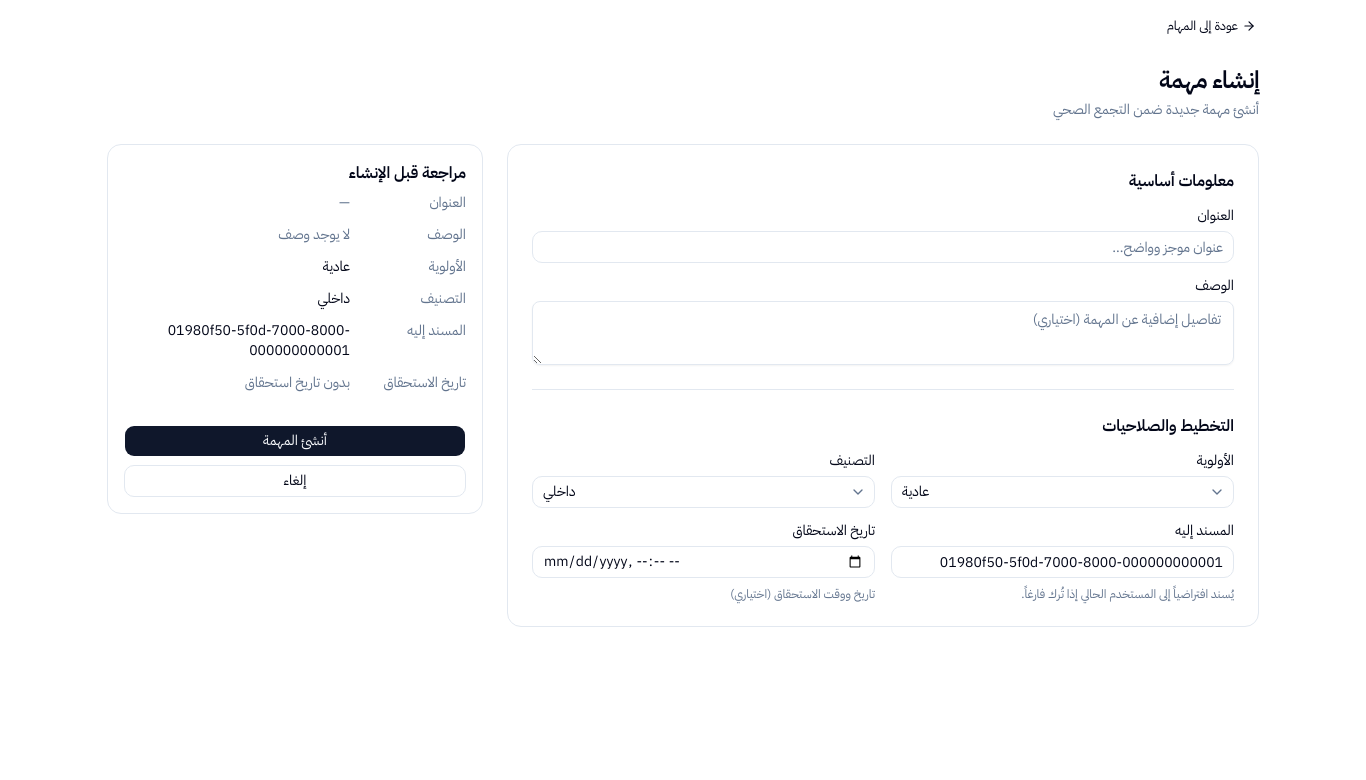
TaskCreateScreen — submit, validation, and navigation › maps a generic server error to the generic submit error
Step 1. Type "مهمة فشلت" into the field labelled "العنوان" → (883, 247), box 532,231 -> 1234,263
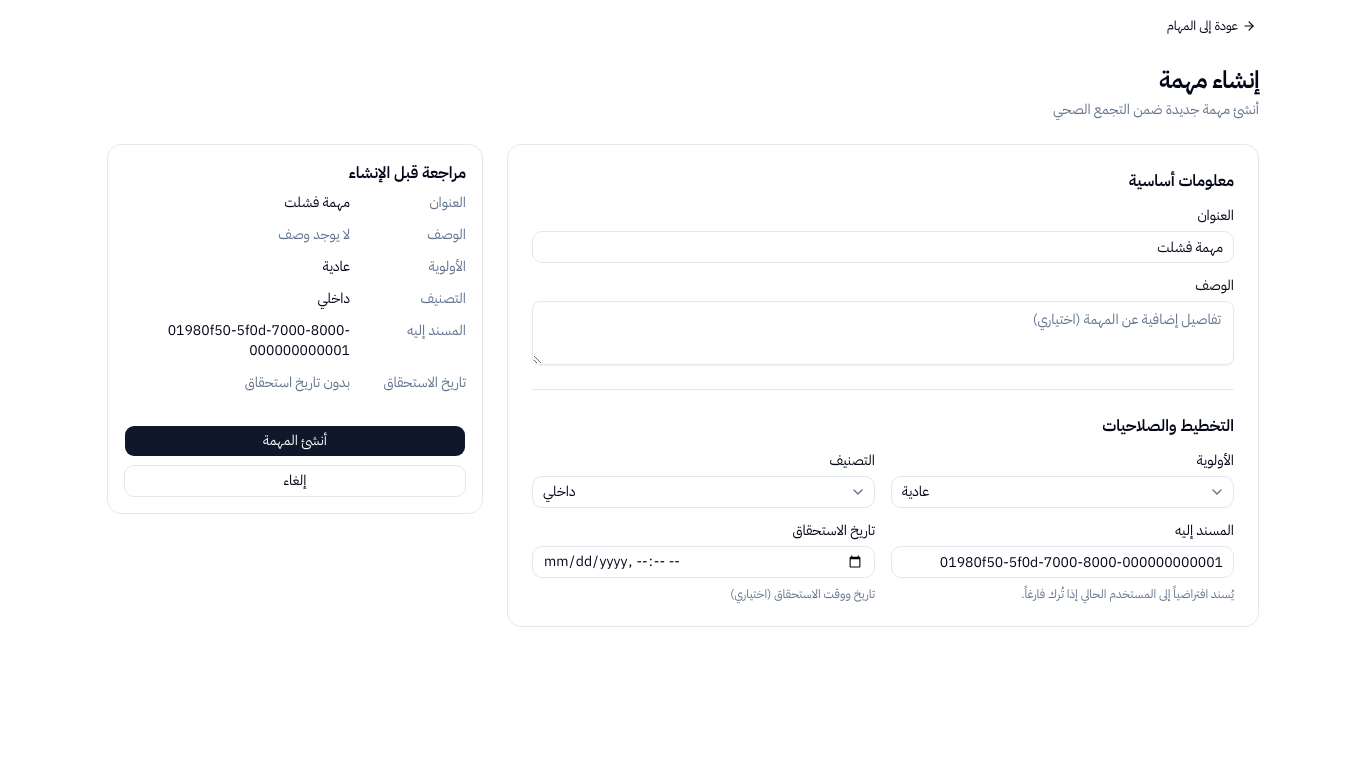
Step 2. Click the button "أنشئ المهمة" → (295, 441), box 124,425 -> 466,457
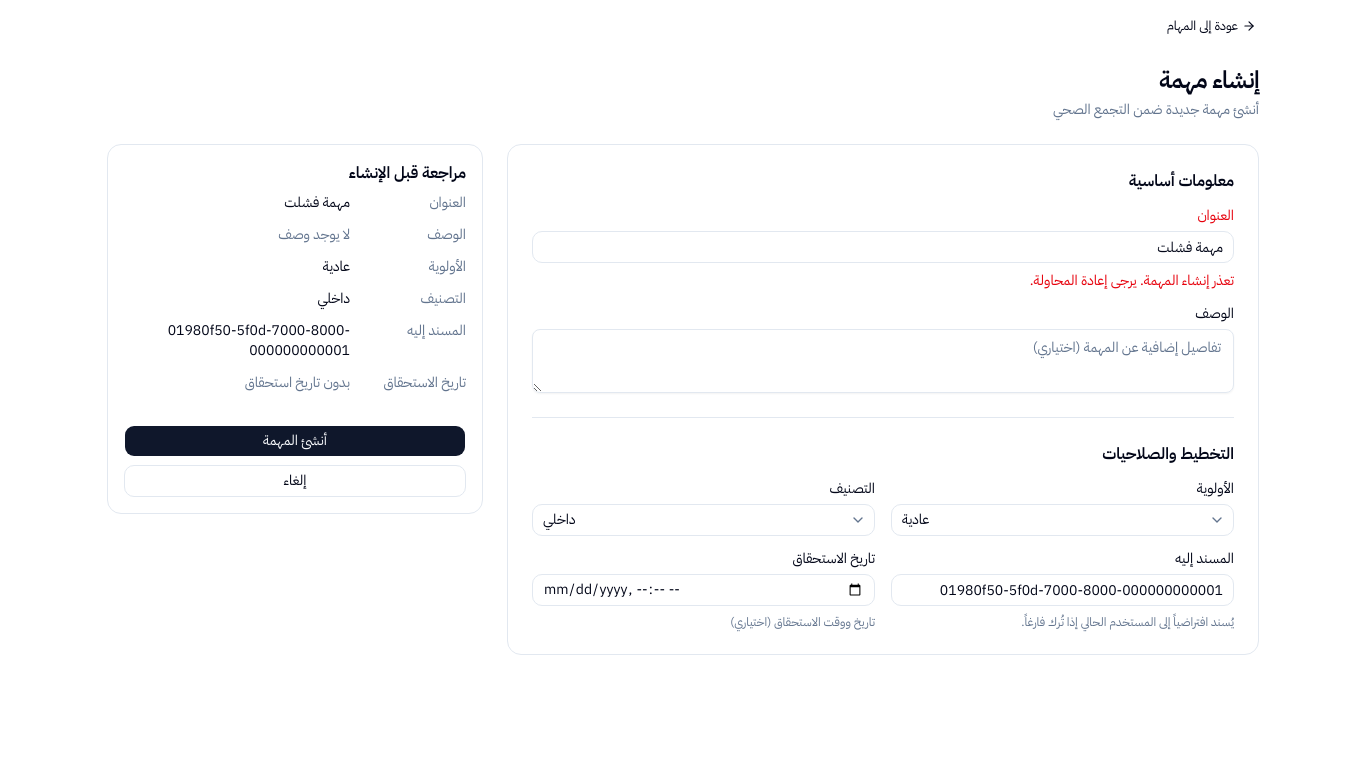
expect the text "تعذر إنشاء المهمة. يرجى إعادة المحاولة." is shown: met, box 1030,270 -> 1234,291
